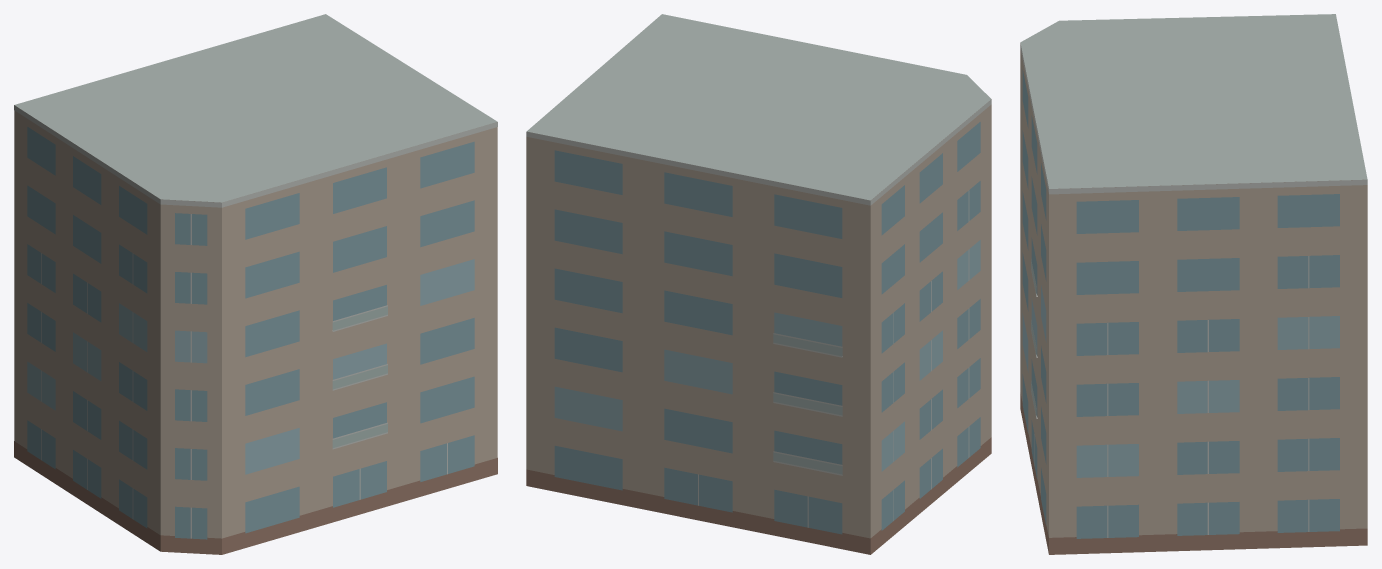
The model's file is survey-upis-32976882.glb.
The picture shows the model from 3 angles, left to right: view 1: azimuth 30°, elevation 25°; view 2: azimuth 150°, elevation 25°; view 3: azimuth 270°, elevation 25°; orthographic projection. The views are drawn at different scales.
Parts seen in each view (by area): view 1: survey-upis-32976882.tmp; view 2: survey-upis-32976882.tmp; view 3: survey-upis-32976882.tmp.
Boxes of the visible parts, x1,y1,x2,y2 form: survey-upis-32976882.tmp: [14, 14, 497, 554]; survey-upis-32976882.tmp: [526, 14, 991, 554]; survey-upis-32976882.tmp: [1020, 14, 1367, 554].
Bounding box in the file's own units: 17.05 × 16.6 × 14.29.
